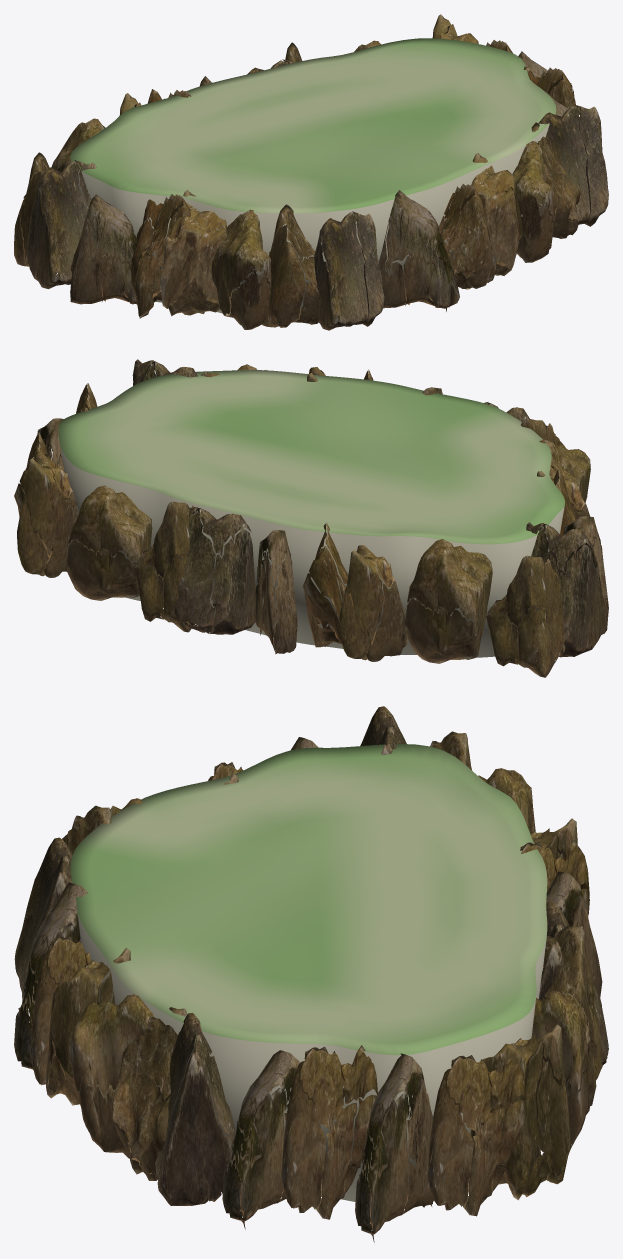
The model's file is sculpted_island_1.glb.
3 renders of one model, top to bottom at view 1: azimuth 30°, elevation 25°; view 2: azimuth 150°, elevation 25°; view 3: azimuth 270°, elevation 25°, orthographic. The views are drawn at different scales.
Parts seen in each view (by area): view 1: Merged_individual_rock_buttresses, Road_Clearance_Turf; view 2: Road_Clearance_Turf, Merged_individual_rock_buttresses; view 3: Road_Clearance_Turf, Merged_individual_rock_buttresses.
Boxes of the visible parts, left/top/right/bottom form: Merged_individual_rock_buttresses: left=14, top=14, right=608, bottom=330; Road_Clearance_Turf: left=70, top=38, right=556, bottom=316; Road_Clearance_Turf: left=58, top=370, right=565, bottom=657; Merged_individual_rock_buttresses: left=14, top=359, right=608, bottom=677; Road_Clearance_Turf: left=70, top=744, right=547, bottom=1201; Merged_individual_rock_buttresses: left=14, top=706, right=608, bottom=1242.
Size of the model in its own units: 32.25 by 7.21 by 21.7.
Materials: 2 (1 with a texture image).
